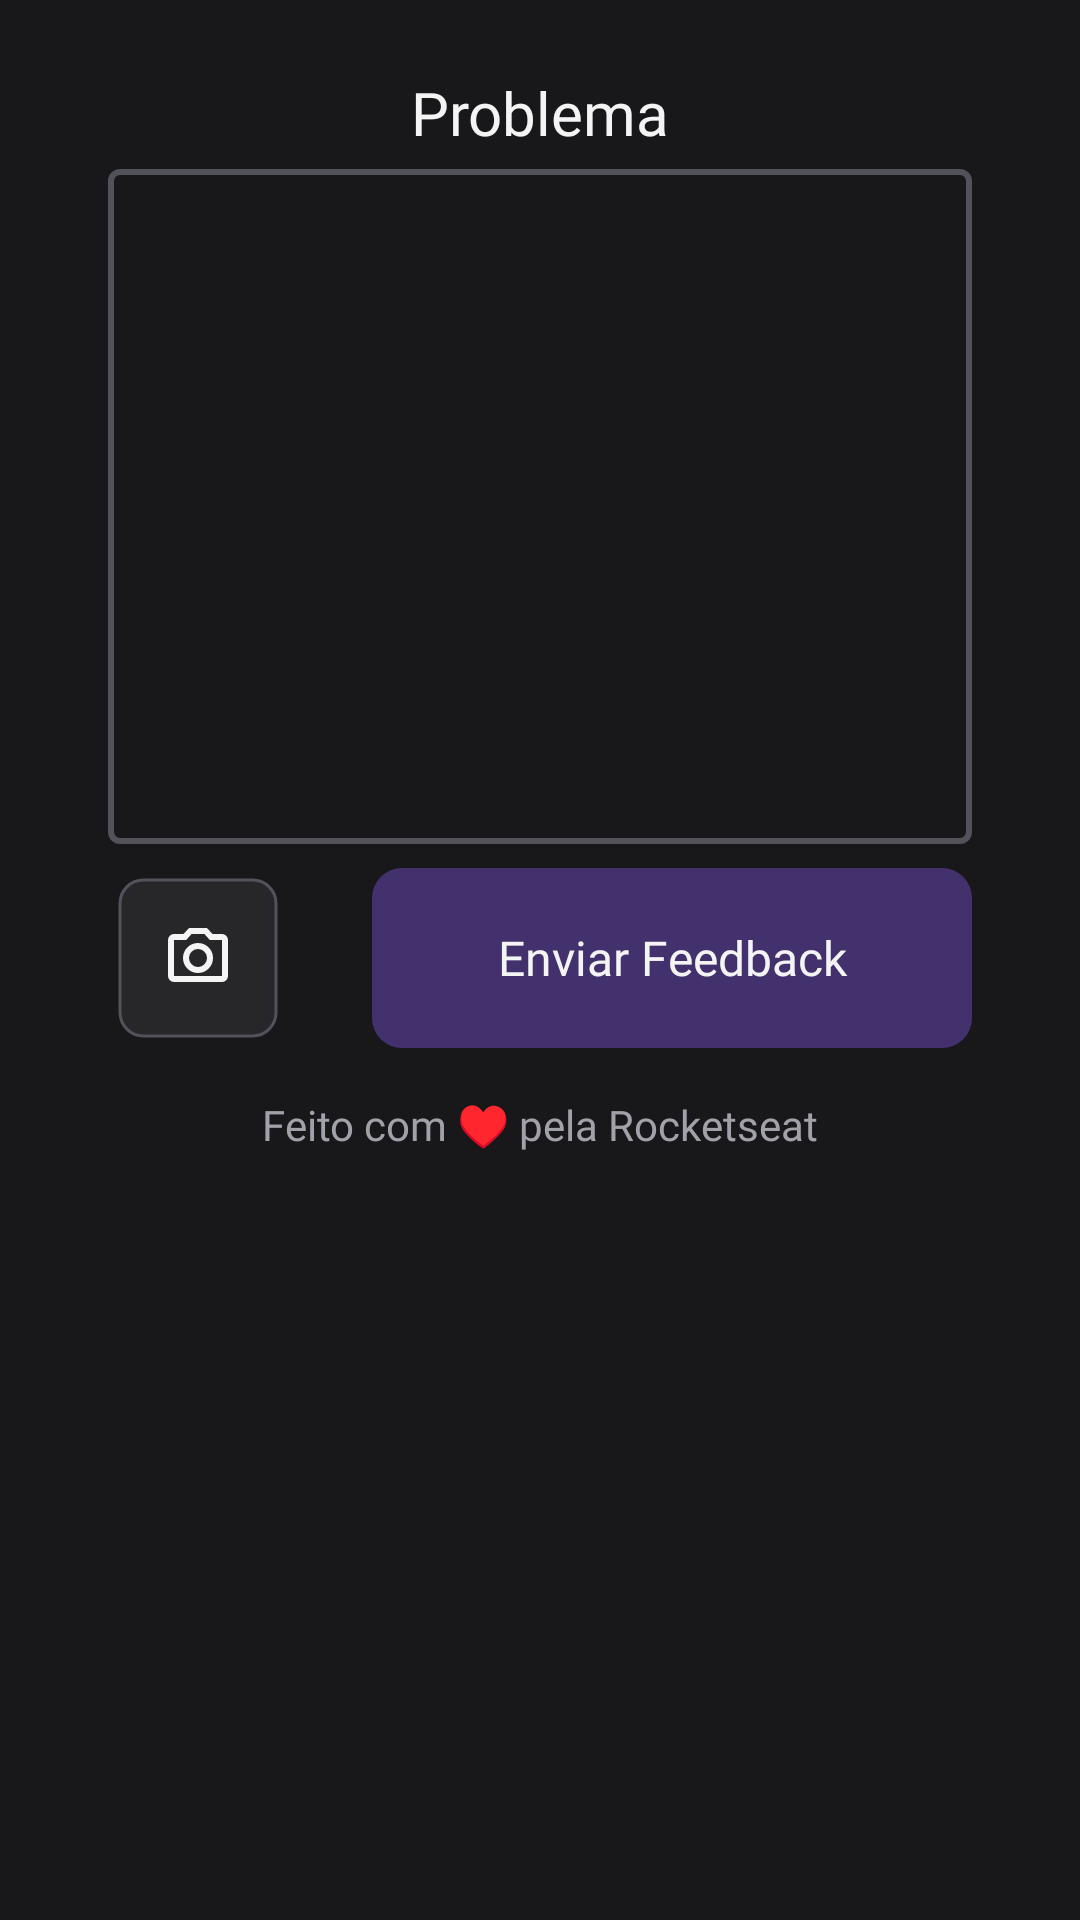

Icons on this 1080 × 1920 Android screen, each with the point to tap as [x,y]:
camera: [198,958]
